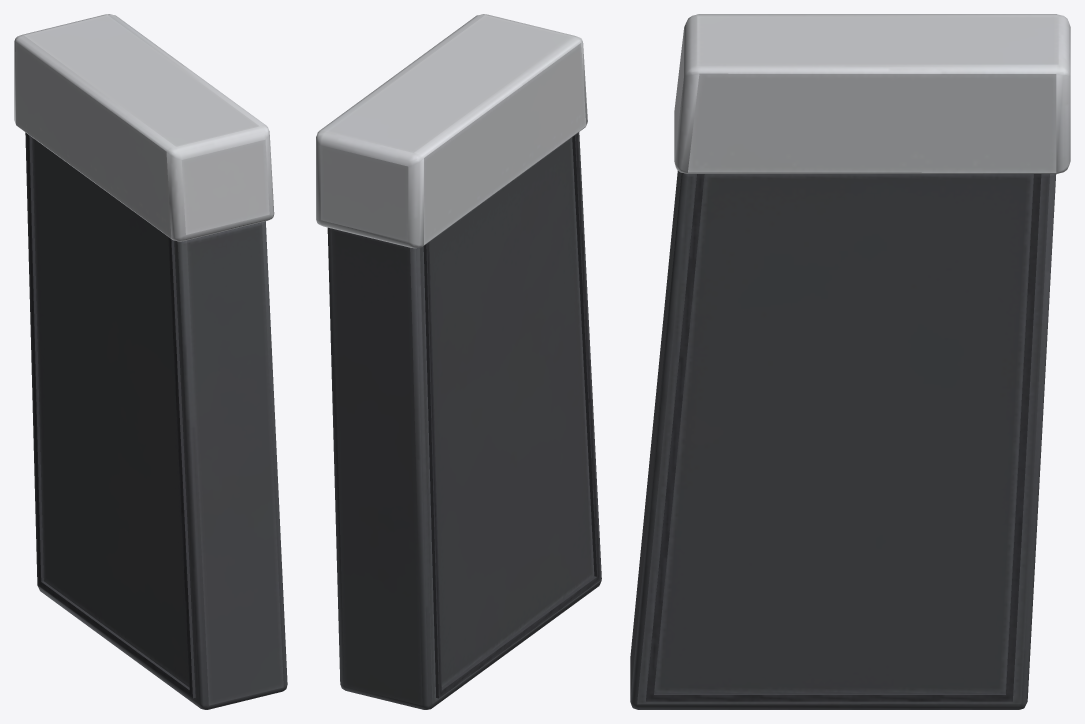
File: AT_KomodoMag.fbx
3 views of the same model, side by side, from view 1: azimuth 30°, elevation 25°; view 2: azimuth 150°, elevation 25°; view 3: azimuth 270°, elevation 25° (orthographic). The views are drawn at different scales.
Parts seen in each view (by area): view 1: AT_KomodoMag_export; view 2: AT_KomodoMag_export; view 3: AT_KomodoMag_export.
Boxes of the visible parts, left/top/right/bottom form: AT_KomodoMag_export: left=14, top=14, right=287, bottom=709; AT_KomodoMag_export: left=316, top=14, right=601, bottom=709; AT_KomodoMag_export: left=630, top=14, right=1070, bottom=709.
Size of the model in its own units: 0.023 by 0.073 by 0.1184.
